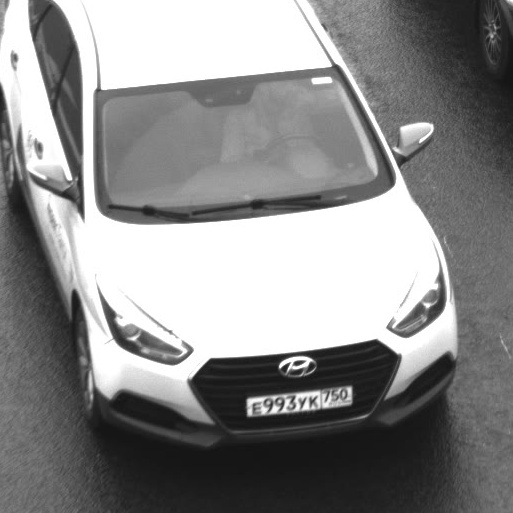plate: (235, 375, 361, 424)
